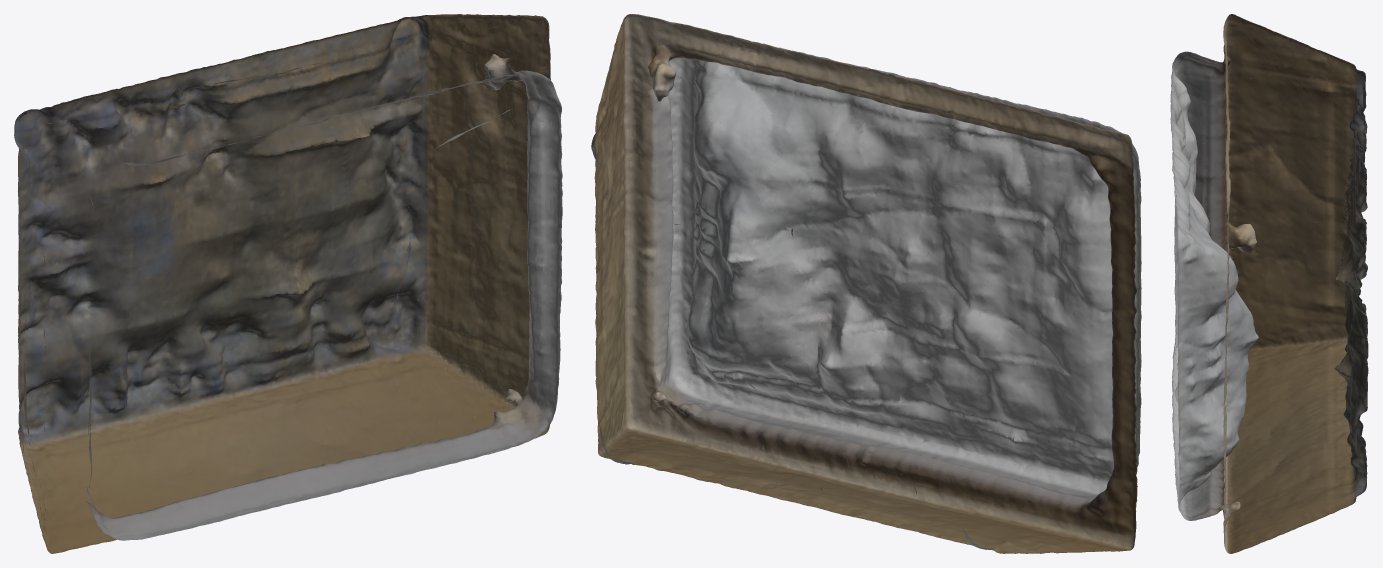
Rendered from soap.glb.
3 renders of one model, left to right at view 1: azimuth 30°, elevation 25°; view 2: azimuth 150°, elevation 25°; view 3: azimuth 270°, elevation 25°, orthographic. The views are drawn at different scales.
Bounding box in the file's own units: 1 × 0.79 × 0.4086.
